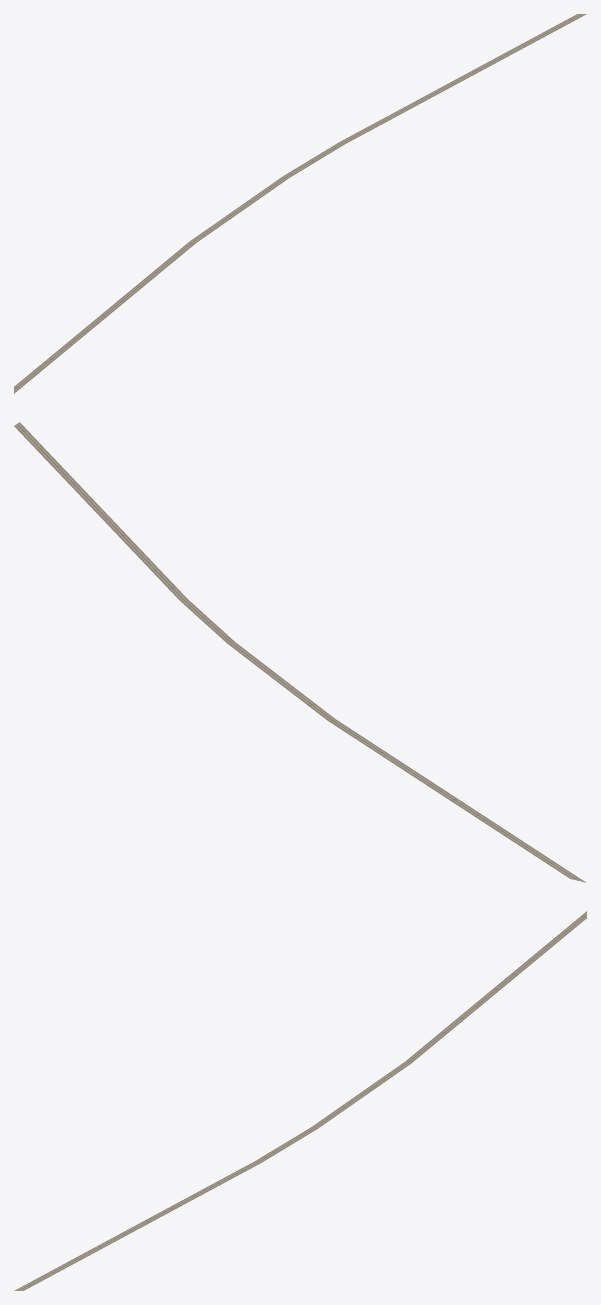
The picture shows the model from 3 angles, top to bottom: view 1: azimuth 90°, elevation 25°; view 2: azimuth 150°, elevation 25°; view 3: azimuth 270°, elevation 25°; orthographic projection. The views are drawn at different scales.
Visible parts, largest first — view 1: rail; view 2: rail; view 3: rail.
Part boxes in pixels (x1,y1,x2,y2): rail: [14, 14, 586, 393]; rail: [14, 422, 586, 882]; rail: [14, 911, 586, 1290].
Bounding box in the file's own units: 421 × 0.04 × 269.
